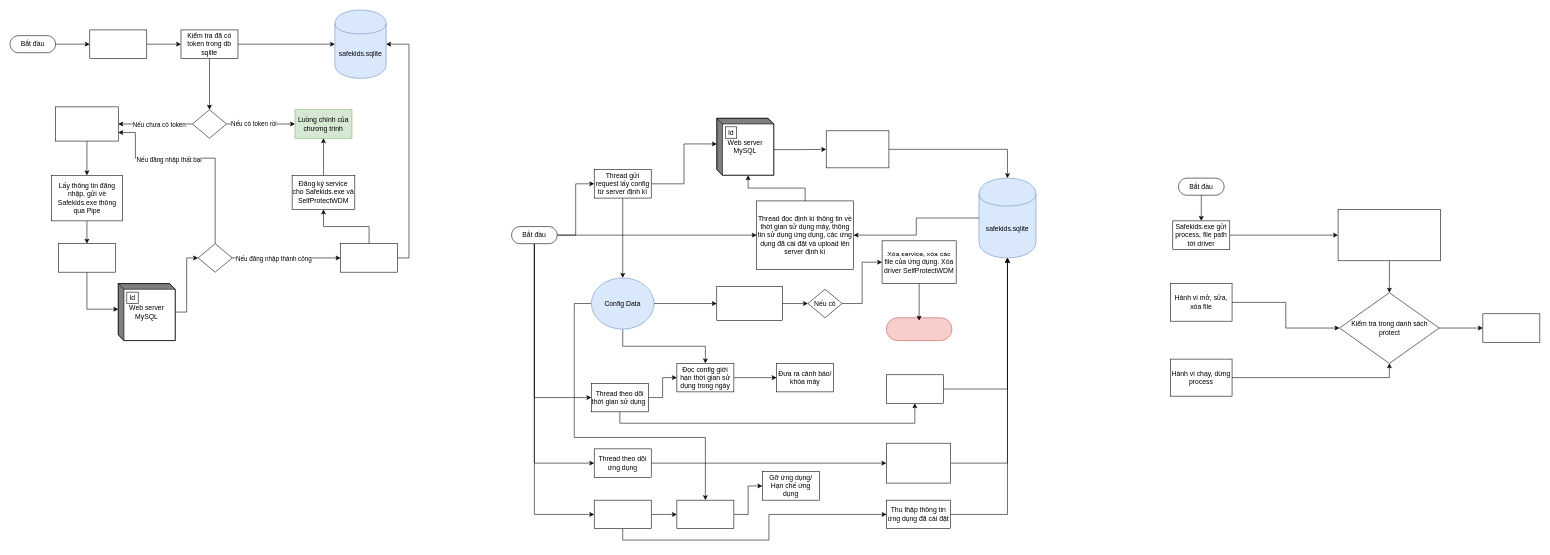
Some shapes in this 1550 by 555 pixel diagram are drawn without their labels. Each missing label, with the centre of its shape:
"Chặn hành vi nếu nó thuộc danh sách bảo vệ" goes at (x=1511, y=327).
"Khởi chạy Safekids.exe" goes at (x=118, y=43).
"Khởi chạy SafekidsLogin.exe" goes at (x=86, y=123).
"Kiểm tra lệnh command xem có yêu cầu gỡ ứng dụng không" goes at (x=749, y=303).
"Lưu trữ token vào db" goes at (x=369, y=257).
"Lưu trữ vào safekids.sqlite" goes at (x=857, y=149).
"Safekids.exe gửi request đăng nhập" goes at (x=86, y=257).
"SelfProtectWDM.sys" goes at (x=1389, y=235).
"Thoát chương trình" goes at (x=919, y=329).
"Thread quản lý ứng dụng" goes at (x=622, y=514).
"Thu thập thời gian sử dụng" goes at (x=914, y=388).
"Thu thập thời gian, thông tin ứng dụng sử dụng" goes at (x=918, y=463).
"Đọc config giới hạn/ gỡ ứng dụng" goes at (x=705, y=514).
